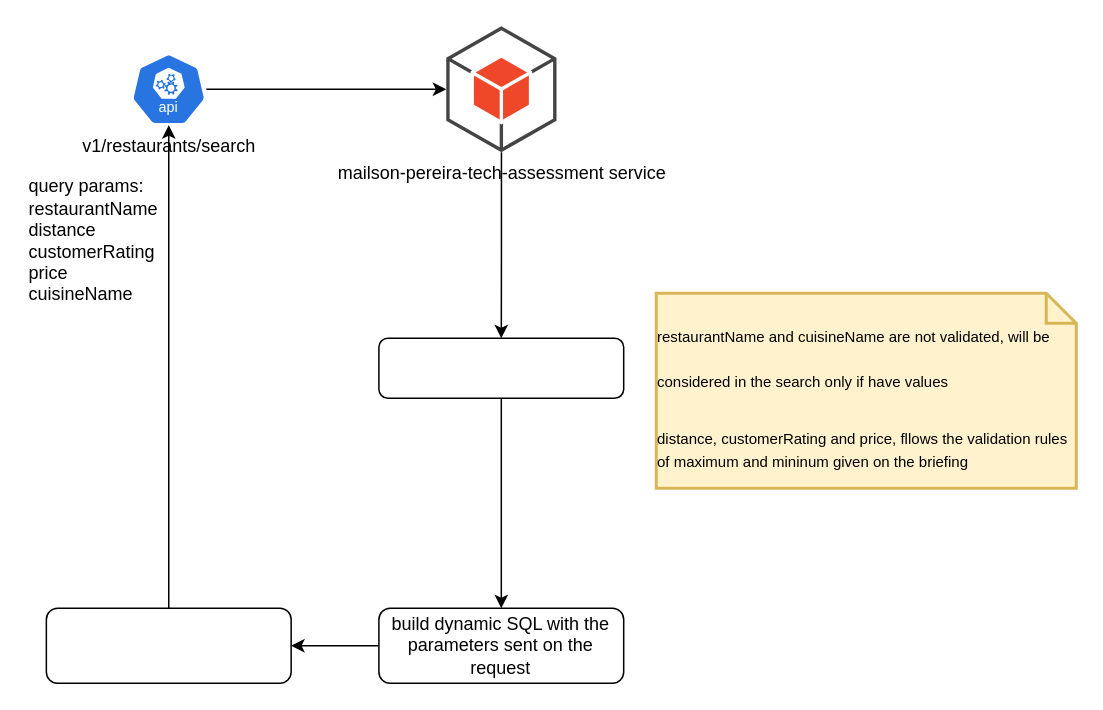
The diagram is 1103 pixels wide and 710 high, and some of its shapes have lost their labels. The shapes that lost their labels are listed below. From the top down, each one's centre as x and y in pixels, then its label:
the point at 500,367: validate search params
the point at 168,645: return list with restaurants or empty list in case none restaurant was found
